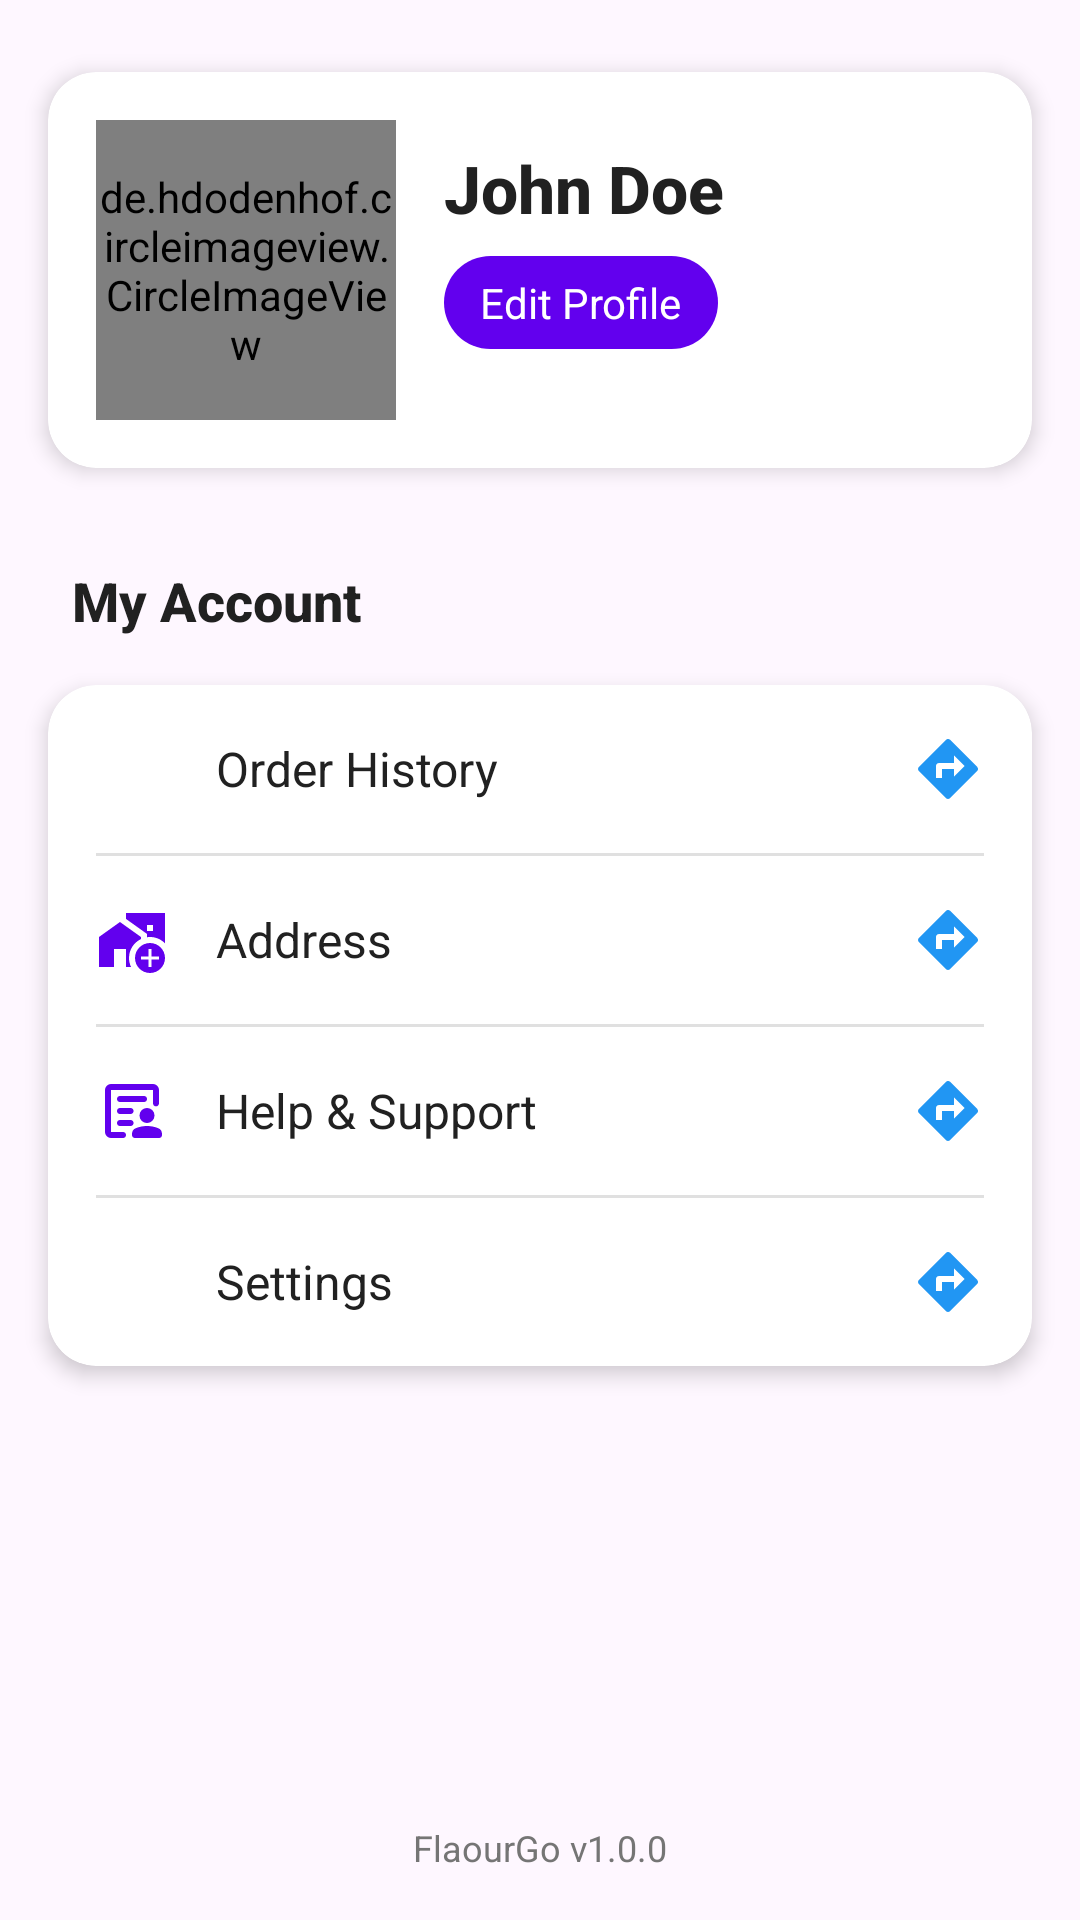

Point at icon controls on the screen. Image size 1080×1920, points as [x,y].
direction: [948,769], [948,940], [948,1111], [948,1282]
